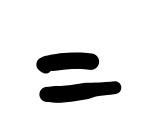eqv: (36, 51, 122, 103)
